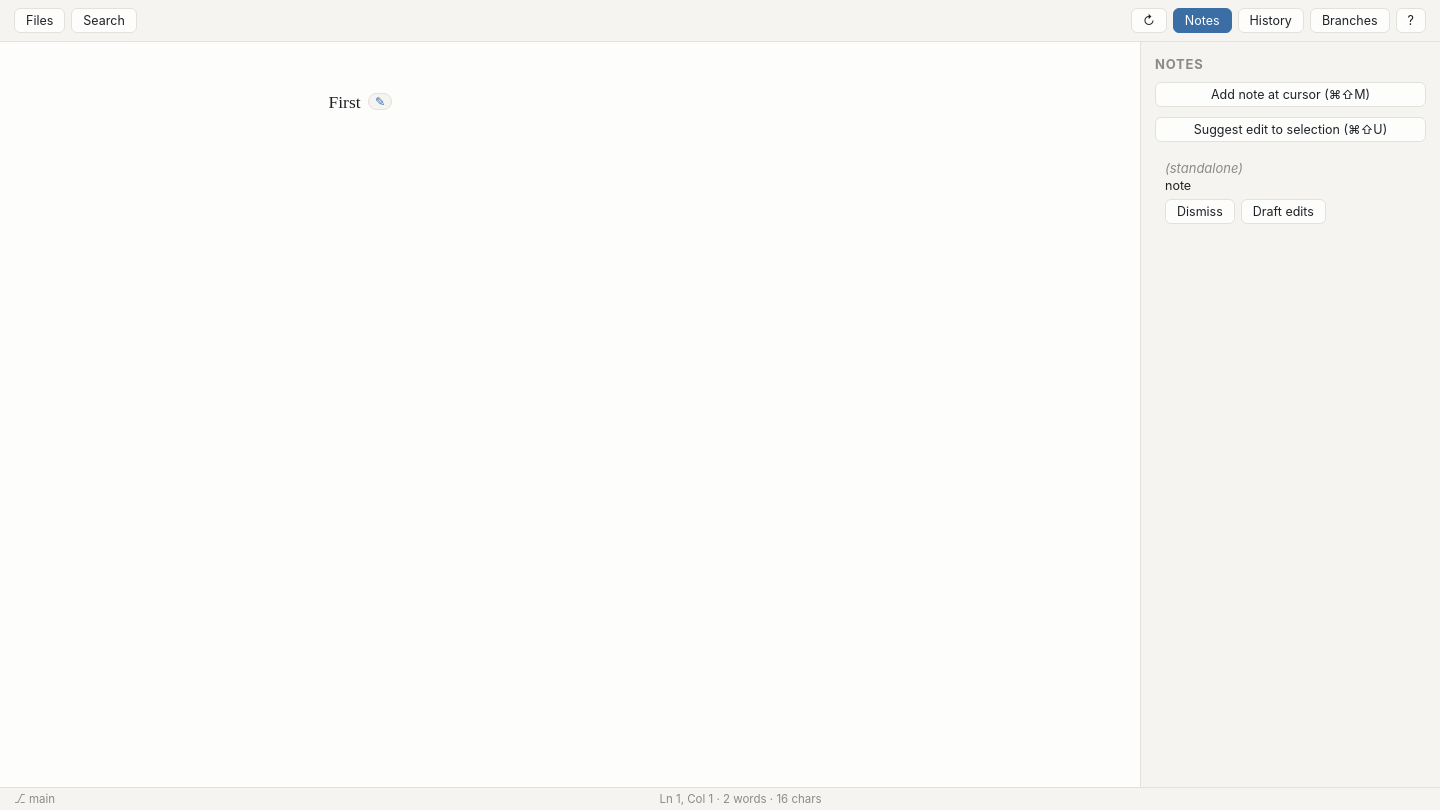
Test case: only applies a delayed note draft while editing (preview: toggle-markdown-preview)
This screenshot has width=1440, height=810.
Click the button "Draft edits" at coordinates (1283, 212), box [1241,199,1326,224]
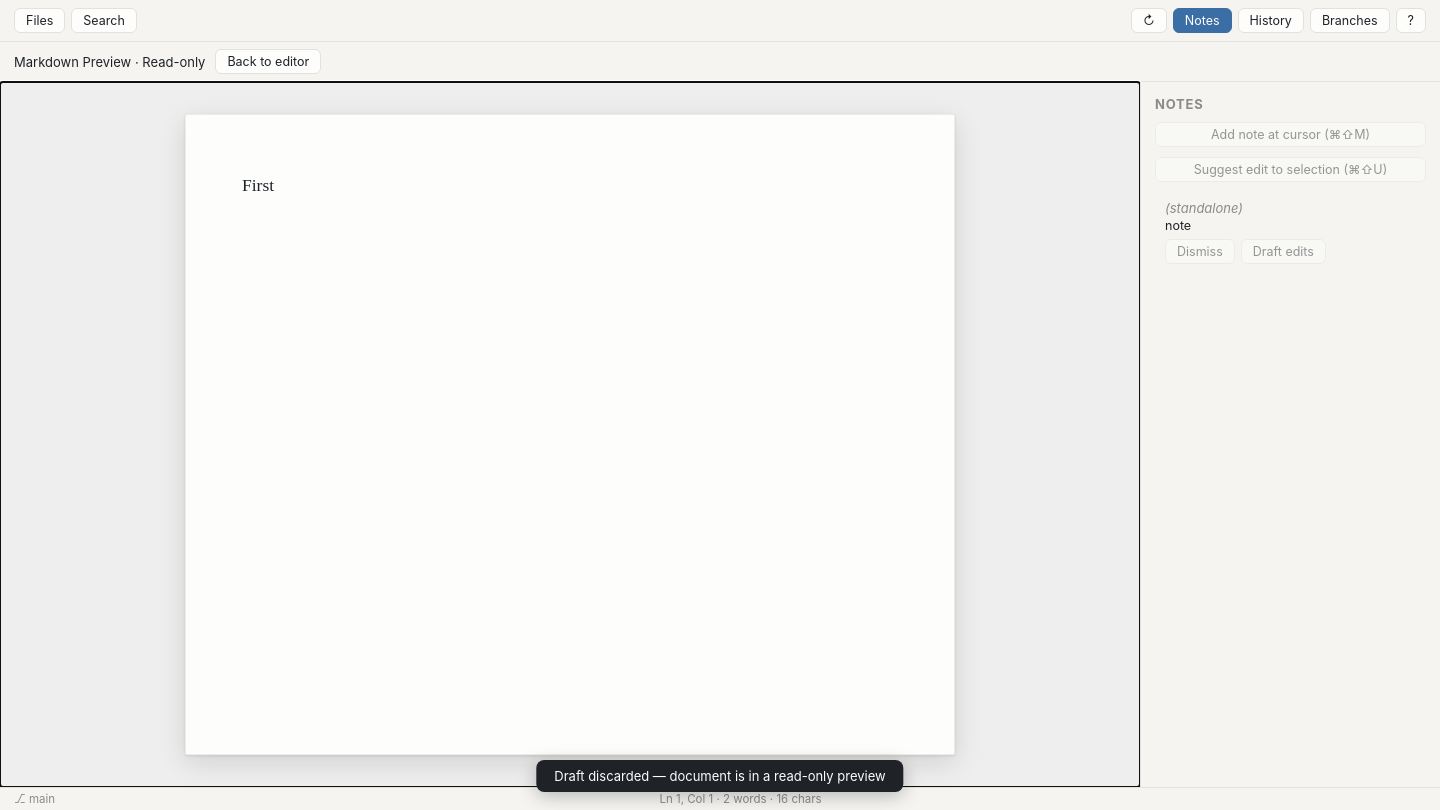
Now the text with class "status-toast" shows "read-only preview", box [554,768,886,784]
